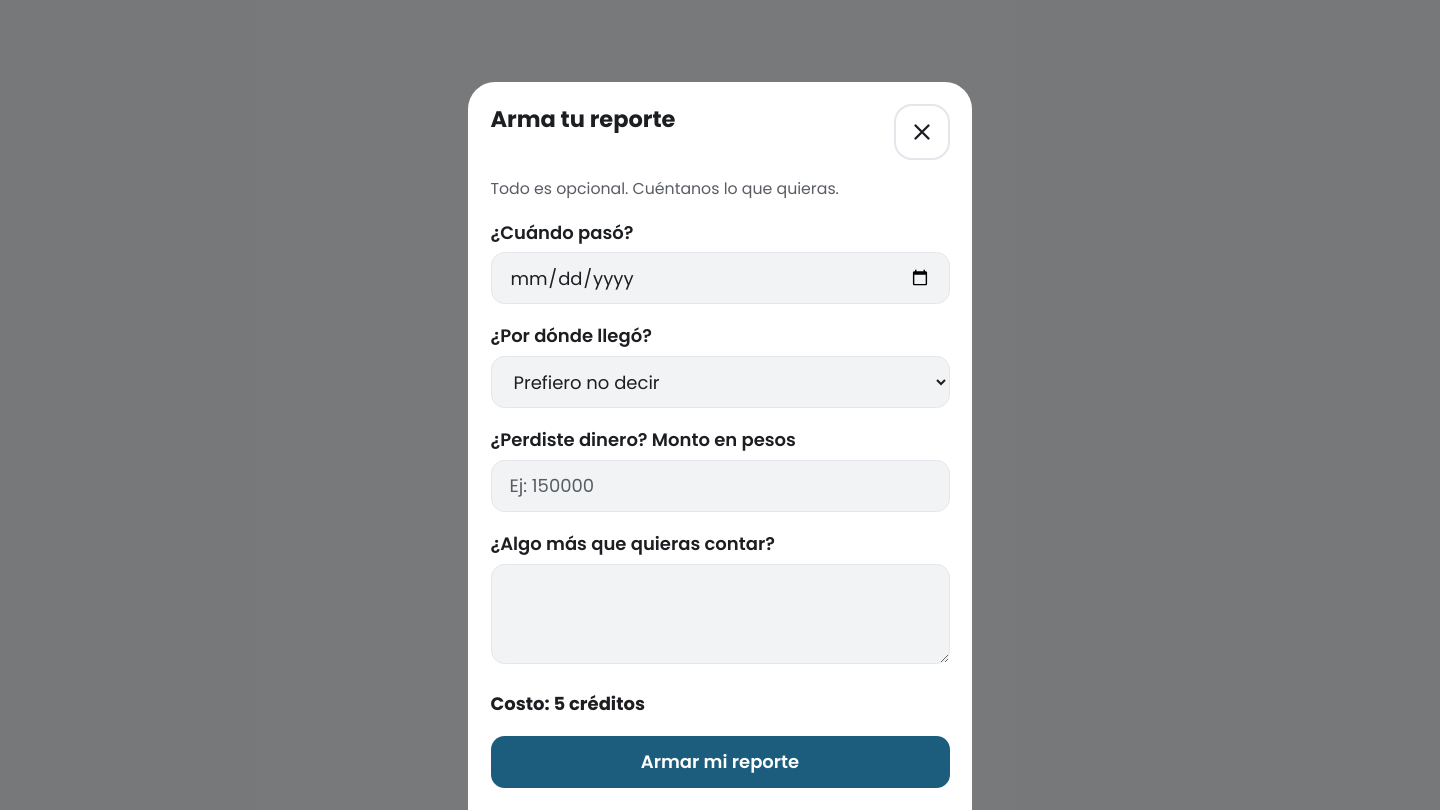
Test case: ReportSheet › 402: avisa que no alcanzan los créditos
Click the button "Armar mi reporte". click: (720, 762)
box: [490, 736, 950, 788]
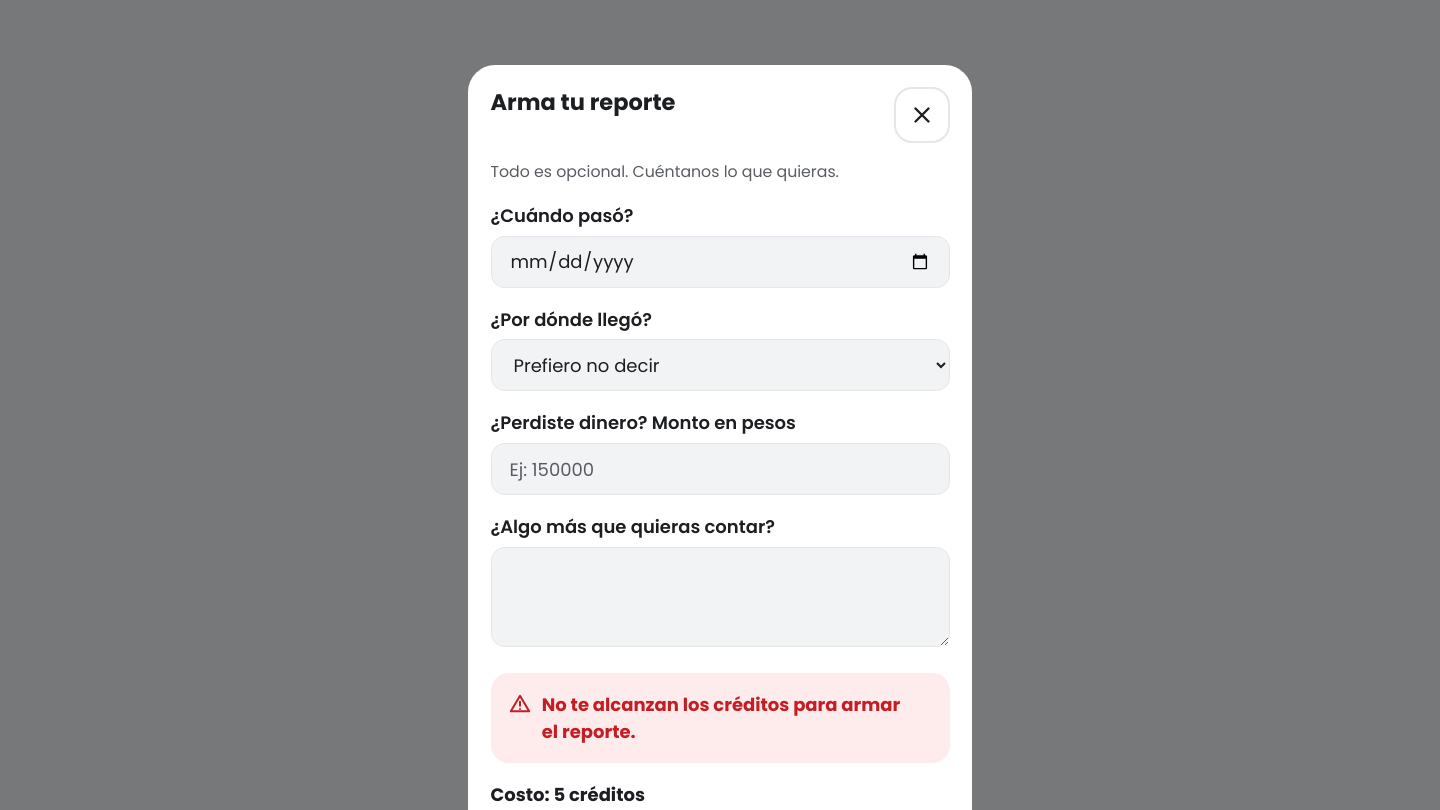
expect the text "No te alcanzan los créditos para armar el reporte." is shown: met, box [542, 691, 932, 745]
